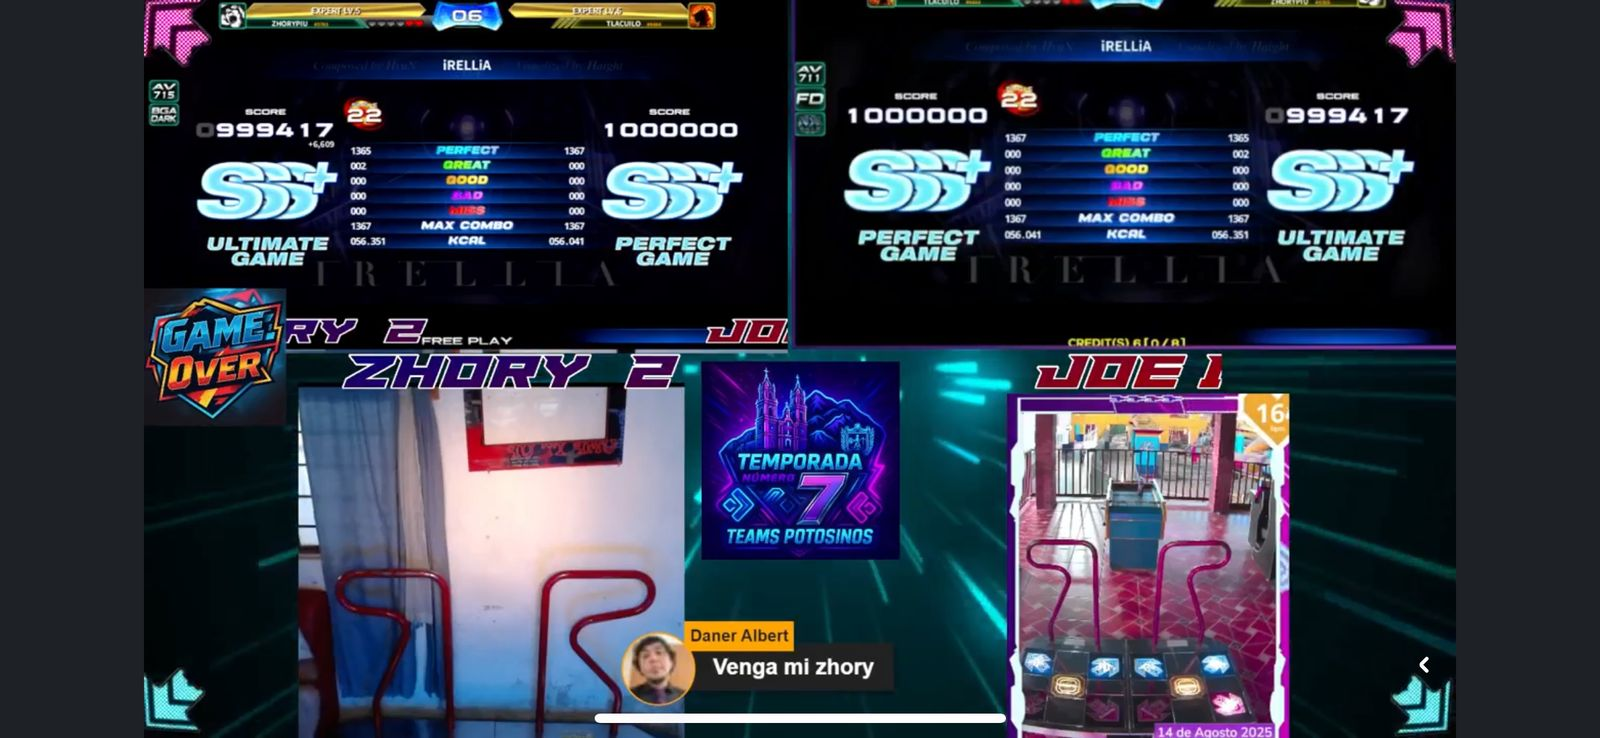difficulty: (334, 88, 372, 132)
fullscore: (787, 0, 1222, 331), (132, 0, 546, 339)
rank: (194, 158, 334, 226)
score: (207, 103, 345, 139)
song_name: (395, 45, 549, 84)
